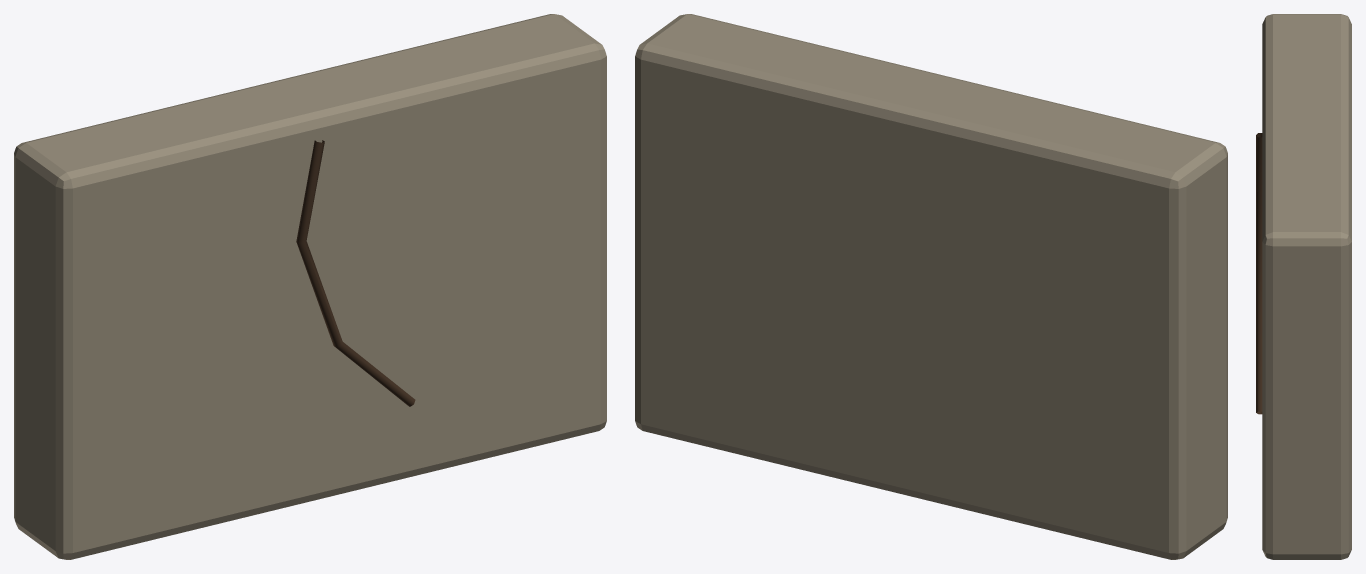
Rendered from cracked_wall_destructible_LOD1.glb.
The picture shows the model from 3 angles, left to right: view 1: azimuth 30°, elevation 25°; view 2: azimuth 150°, elevation 25°; view 3: azimuth 270°, elevation 25°; orthographic projection. The views are drawn at different scales.
Parts seen in each view (by area): view 1: LOD1_CrackedWall, LOD1_MainCrack; view 2: LOD1_CrackedWall; view 3: LOD1_CrackedWall, LOD1_MainCrack.
Boxes of the visible parts, x1,y1,x2,y2 form: LOD1_CrackedWall: [14, 14, 606, 559]; LOD1_MainCrack: [296, 140, 415, 406]; LOD1_CrackedWall: [635, 14, 1227, 559]; LOD1_CrackedWall: [1262, 14, 1351, 559]; LOD1_MainCrack: [1256, 133, 1262, 414].
Bounding box in the file's own units: 3 × 2.02 × 0.535.
